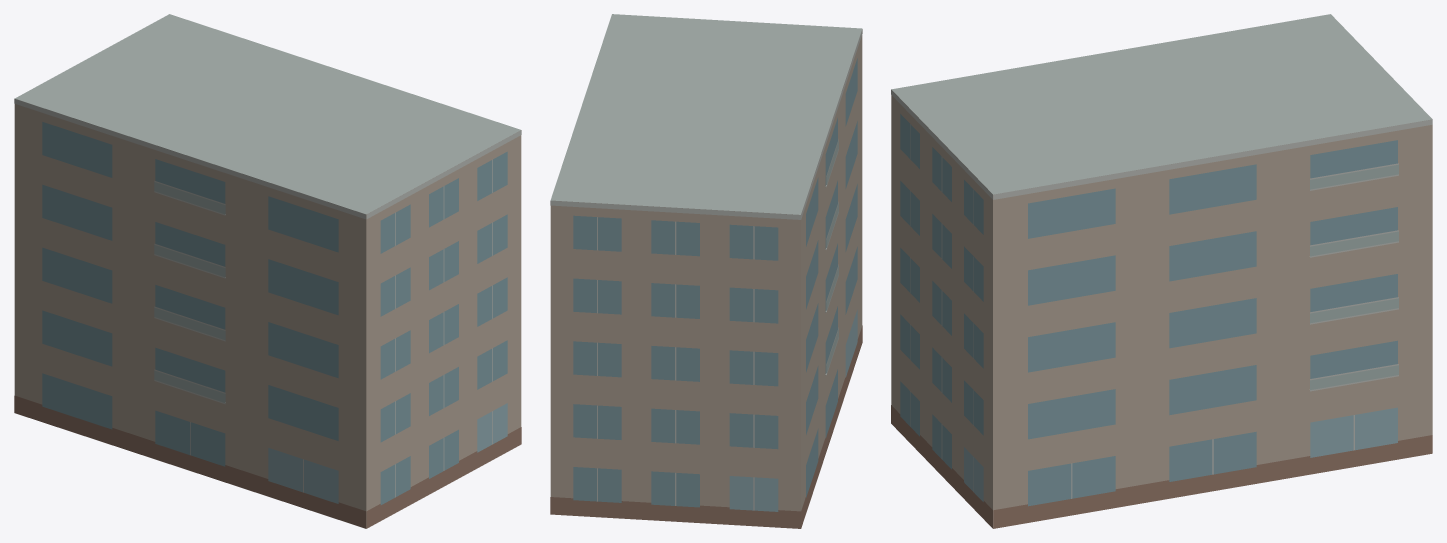
Rendered from survey-upis-32613835.glb.
The picture shows the model from 3 angles, left to right: view 1: azimuth 30°, elevation 25°; view 2: azimuth 150°, elevation 25°; view 3: azimuth 270°, elevation 25°; orthographic projection. The views are drawn at different scales.
Parts seen in each view (by area): view 1: survey-upis-32613835.tmp; view 2: survey-upis-32613835.tmp; view 3: survey-upis-32613835.tmp.
Part boxes in pixels (<box>): survey-upis-32613835.tmp: <box>14,14,521,528</box>; survey-upis-32613835.tmp: <box>550,14,862,528</box>; survey-upis-32613835.tmp: <box>891,14,1432,528</box>.
Size of the model in its own units: 17.62 by 15.2 by 22.32.
